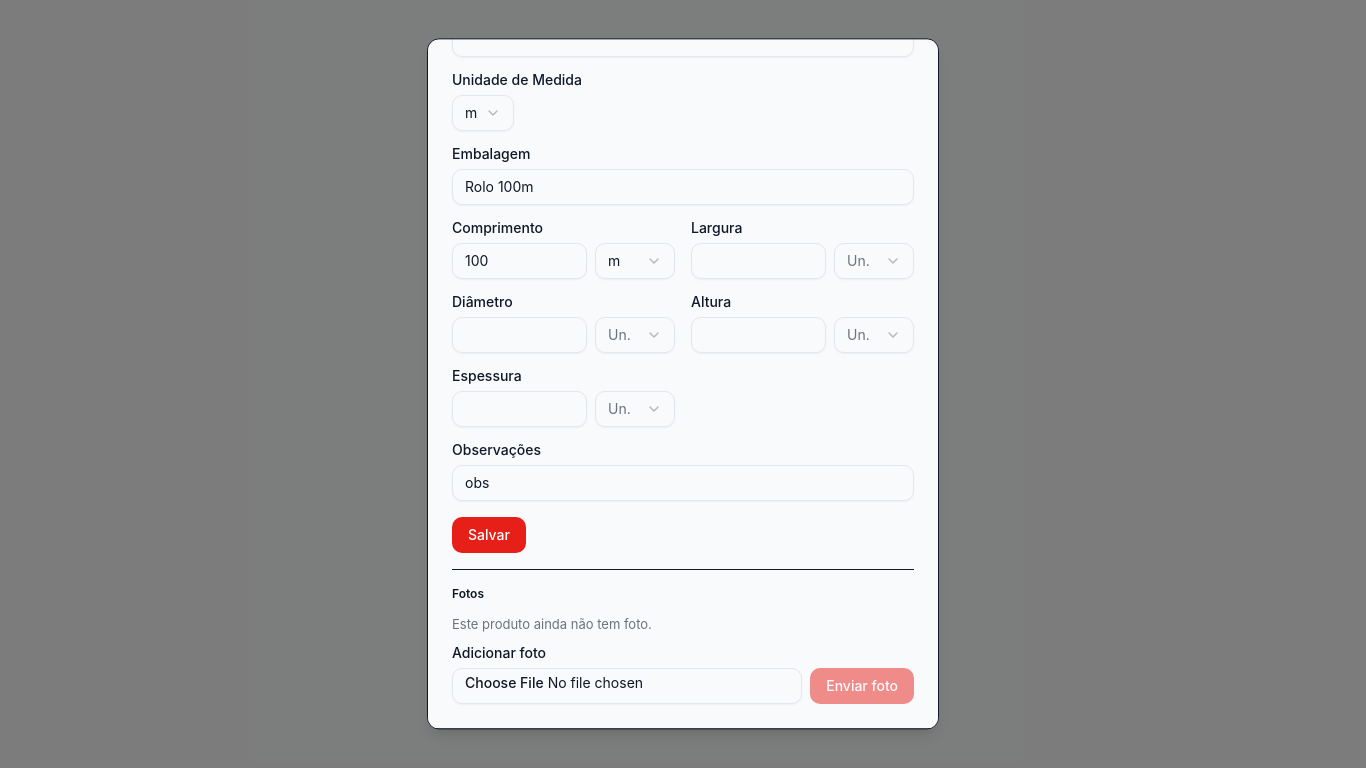
Test: EditarProdutoDialog › 400: mostra a mensagem do servidor em role=alert e não fecha
(page scrolled)
Click the button "Salvar" at (489,535), box [452,517,526,553]
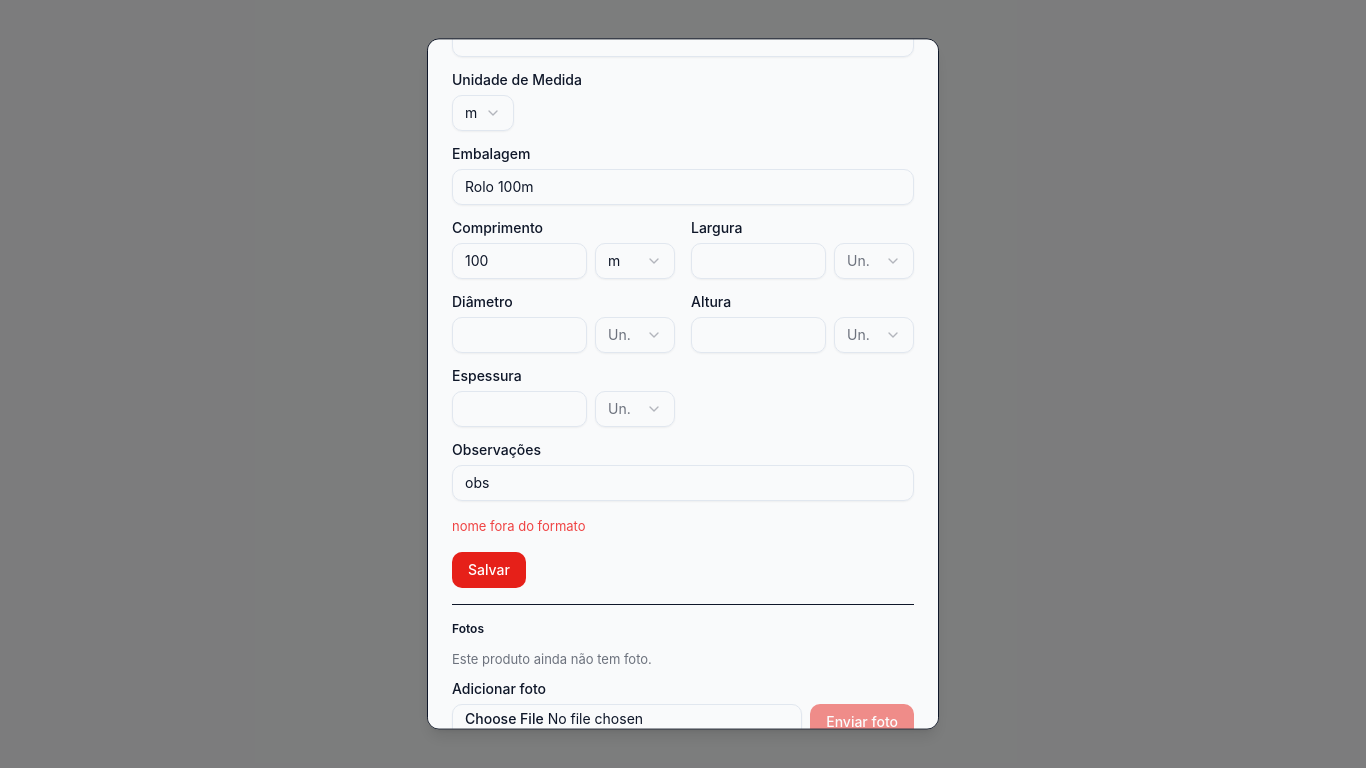
Now the message reads "nome fora do formato", box [452,518,586,534]
